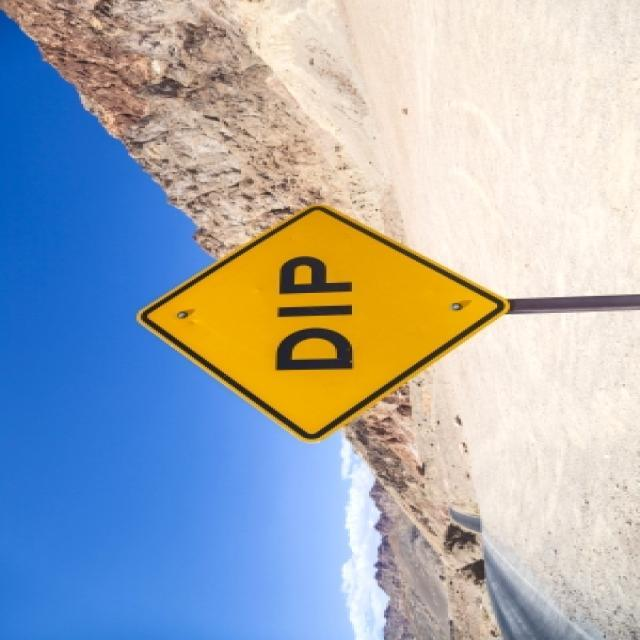Traffic sign: (132, 201, 513, 446)
